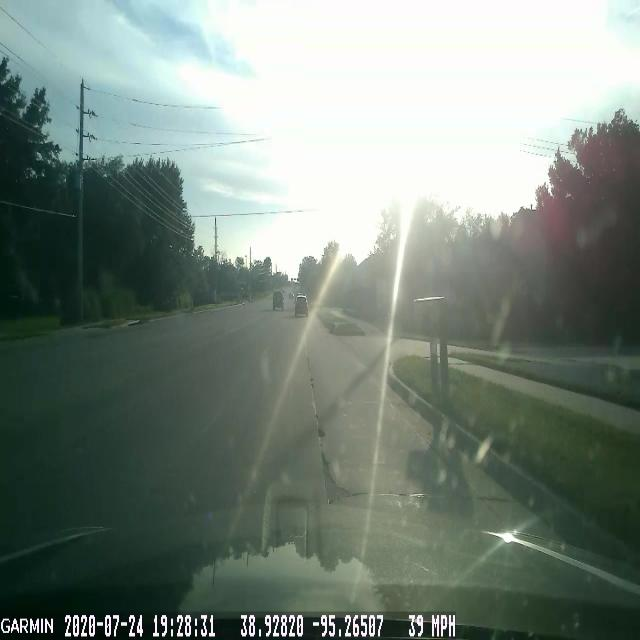Pothole: (318, 452, 374, 507)
